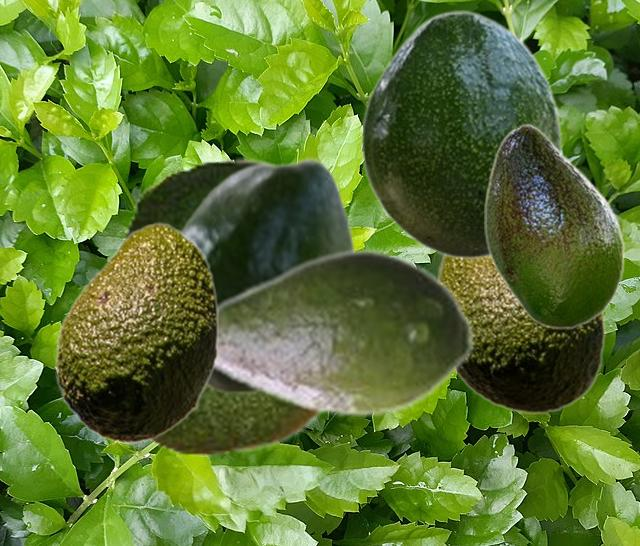avocado: (108, 157, 326, 455), (360, 10, 561, 259), (214, 247, 475, 418), (177, 156, 355, 394), (55, 222, 217, 443), (484, 123, 624, 328), (435, 255, 605, 414)
